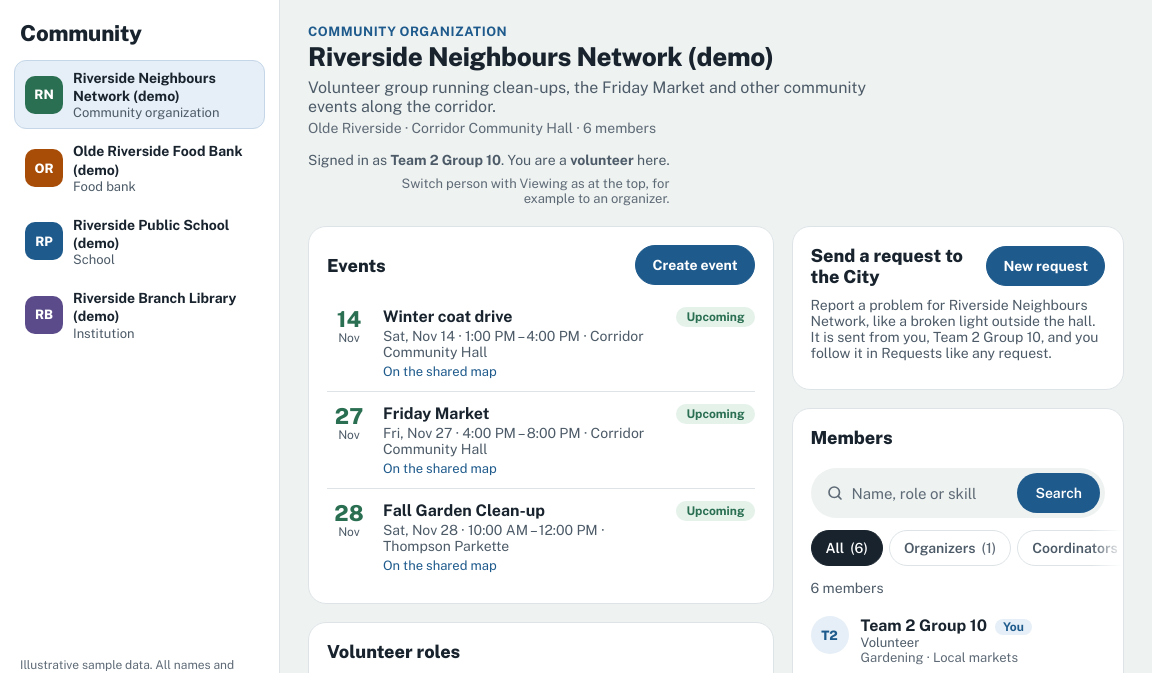
Scenario: School workspace › shows the roadwork alert and tells people to use the clear route
The width and height of the screenshot is (1164, 673).
Expected: the heading "Riverside Neighbours Network (demo)" is shown, [308,41,774,72]
Click the button "RP Riverside Public School (demo) School".
click(140, 242)  # box [14,207,265,276]
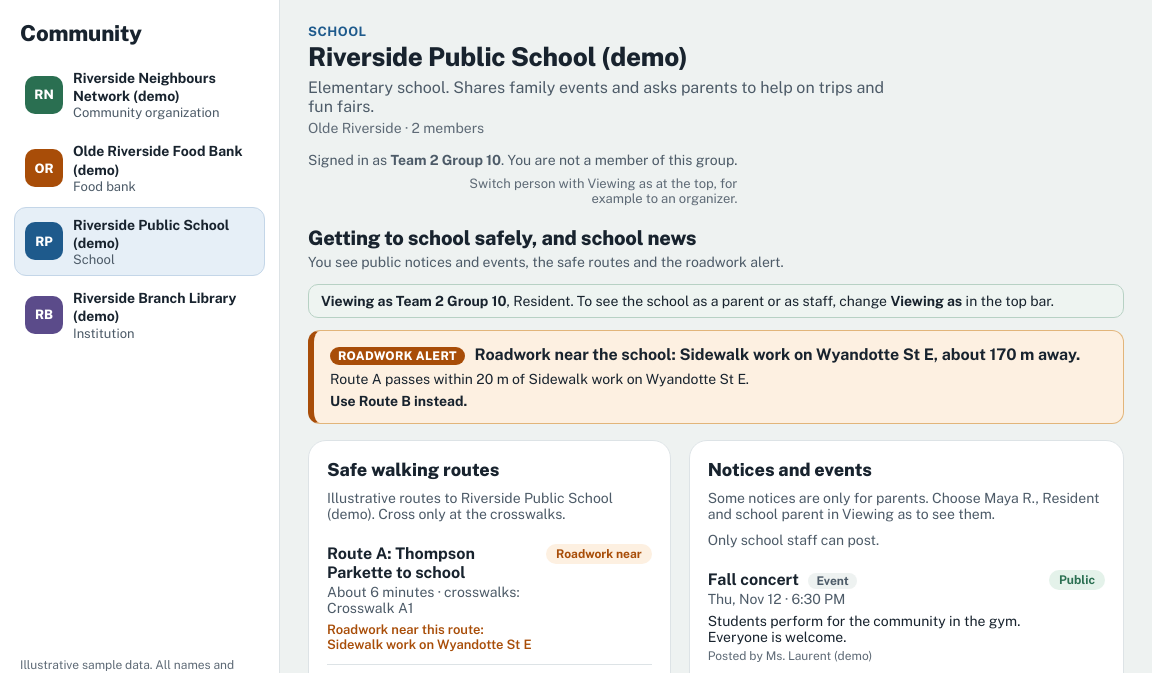
Now the heading "Riverside Public School (demo)" is shown, box [308,41,688,72]
Now the heading "Getting to school safely, and school news" is shown, box [308,226,696,250]
Now the text "Roadwork alert" is shown, box [330,347,465,365]
